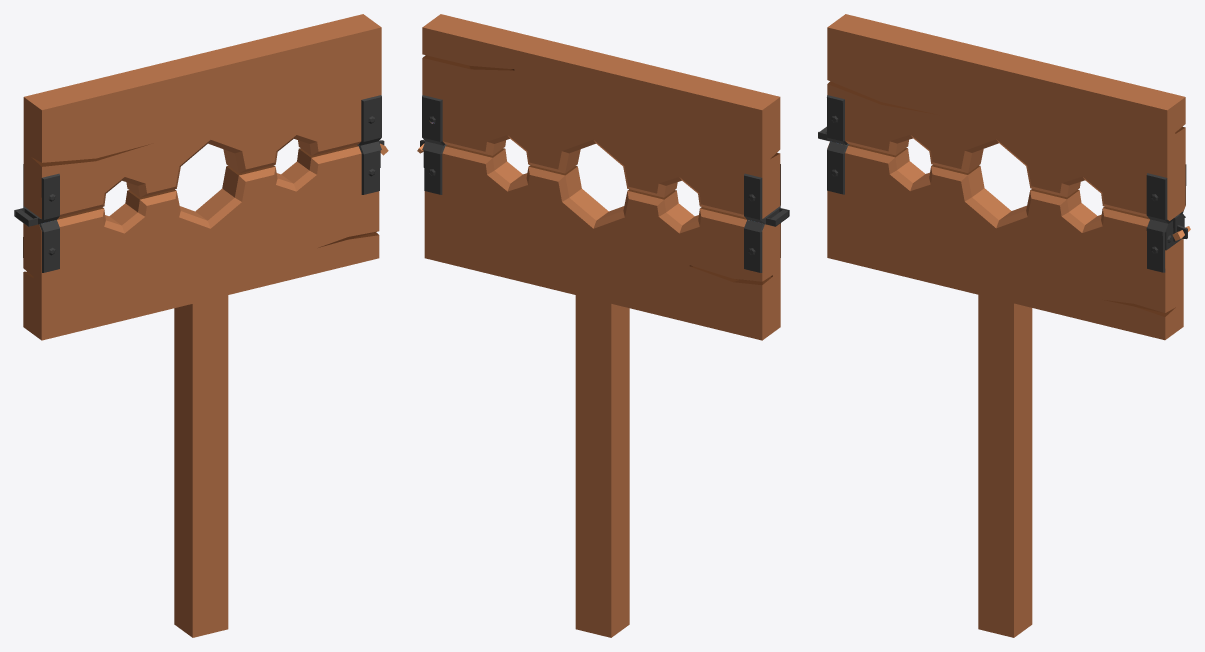
The model's file is b13d694d-80a1-4115-8e7a-5e3b64d14ecf.glb.
3 renders of one model, left to right at view 1: azimuth 30°, elevation 25°; view 2: azimuth 150°, elevation 25°; view 3: azimuth 330°, elevation 25°, orthographic.
Parts seen in each view (by area): view 1: HalloweenPillory; view 2: HalloweenPillory; view 3: HalloweenPillory.
Part boxes in pixels (x1,y1,x2,y2): HalloweenPillory: (14, 14, 388, 637); HalloweenPillory: (417, 14, 789, 637); HalloweenPillory: (818, 14, 1190, 637).
Size of what is drawn, in the model's own units: 1.27 by 1.89 by 0.1366.
1 material, 1 textured.
